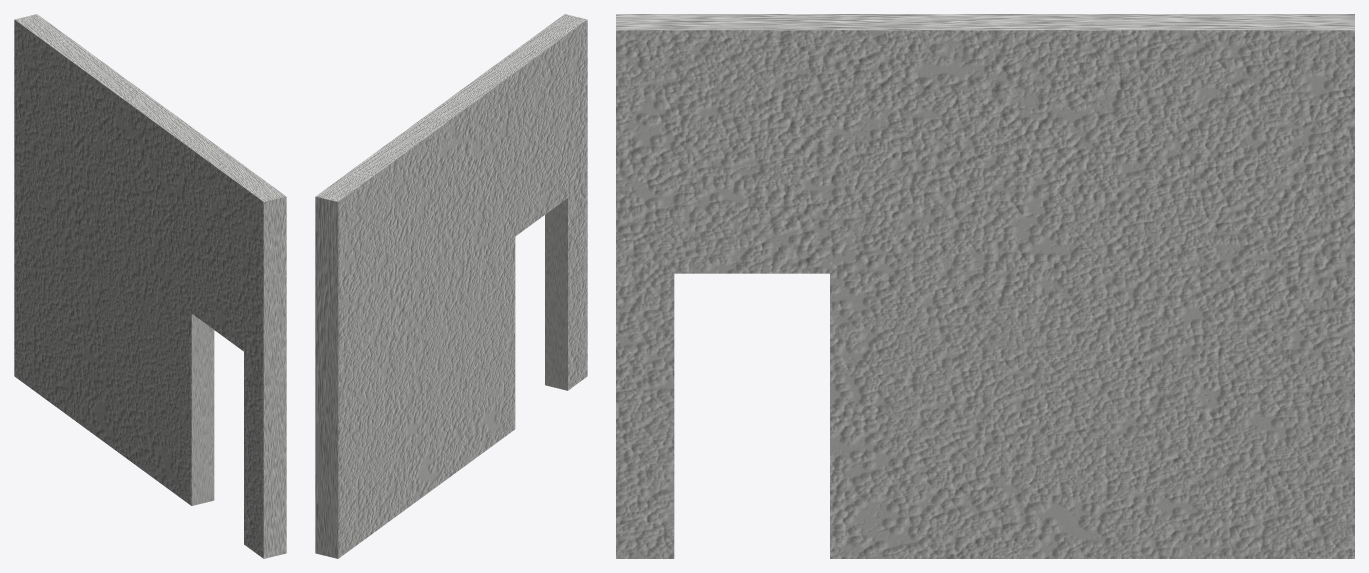
File: 1-doorway-left-fixed.fbx
3 views of the same model, side by side, from view 1: azimuth 30°, elevation 25°; view 2: azimuth 150°, elevation 25°; view 3: azimuth 270°, elevation 25° (orthographic). The views are drawn at different scales.
Visible parts, largest first — view 1: Cube; view 2: Cube; view 3: Cube.
Boxes of the visible parts, left/top/right/bottom form: Cube: left=14, top=14, right=286, bottom=558; Cube: left=315, top=14, right=587, bottom=558; Cube: left=616, top=14, right=1354, bottom=558.
Bounding box in the file's own units: 50 × 750 × 950.
